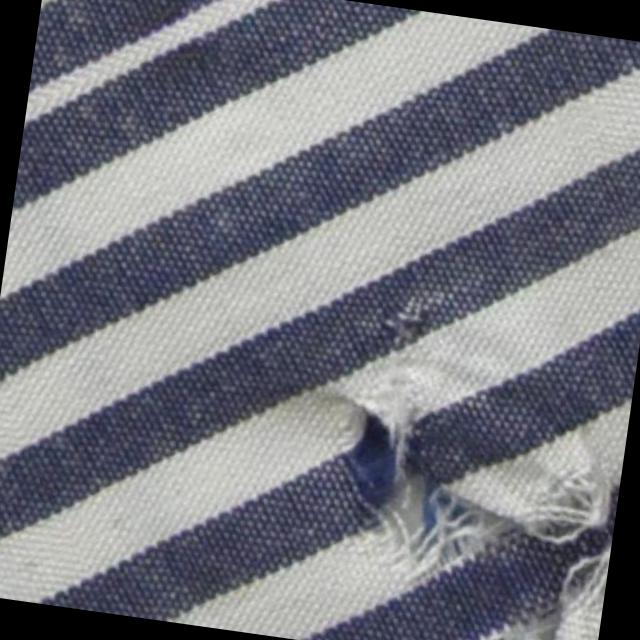cut: (326, 380, 613, 591), (488, 581, 579, 640)
